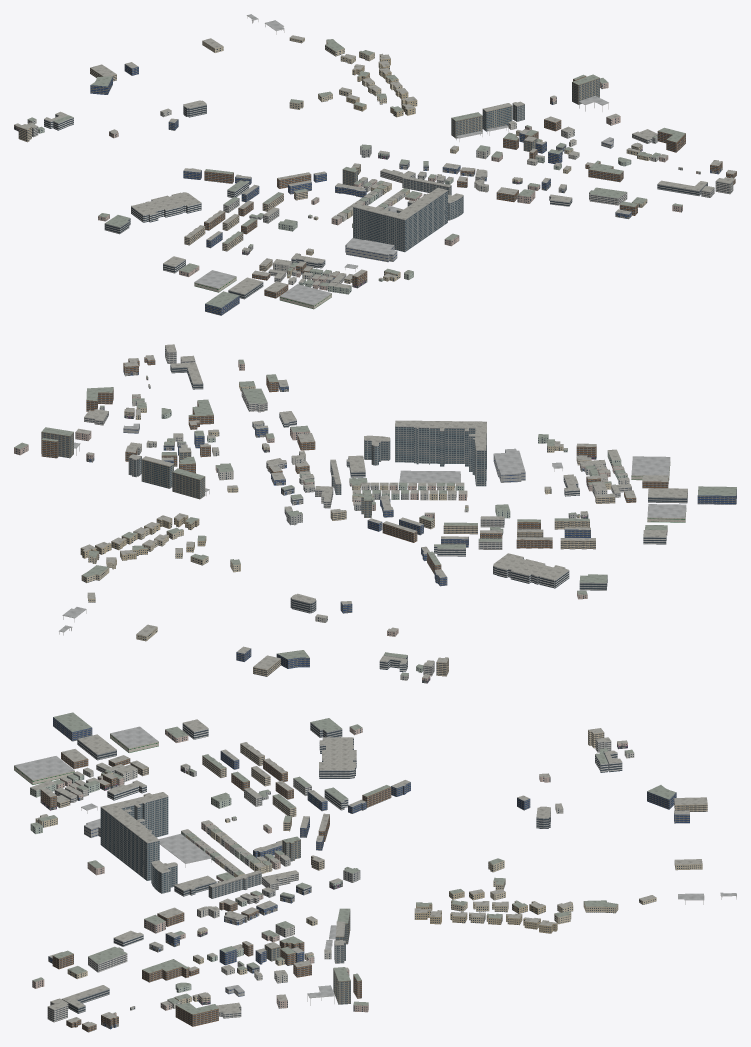
File: ArahaTown_Block_W01024_N02048.gltf
3 renders of one model, top to bottom at view 1: azimuth 30°, elevation 25°; view 2: azimuth 150°, elevation 25°; view 3: azimuth 270°, elevation 25°, orthographic. The views are drawn at different scales.
Parts seen in each view (by area): view 1: ArahaTown_Block_W01024_N02048; view 2: ArahaTown_Block_W01024_N02048; view 3: ArahaTown_Block_W01024_N02048.
Part boxes in pixels (box(x1,y1,x2,y2)): ArahaTown_Block_W01024_N02048: box(14, 14, 736, 315); ArahaTown_Block_W01024_N02048: box(14, 344, 736, 683); ArahaTown_Block_W01024_N02048: box(14, 712, 736, 1032).
Bounding box in the file's own units: 1041 × 59.93 × 1023.
25 materials, 24 textured.
